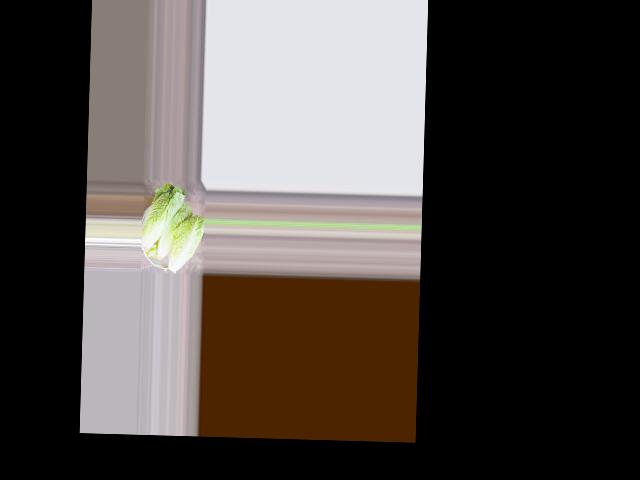lettuce: (140, 184, 186, 257)
